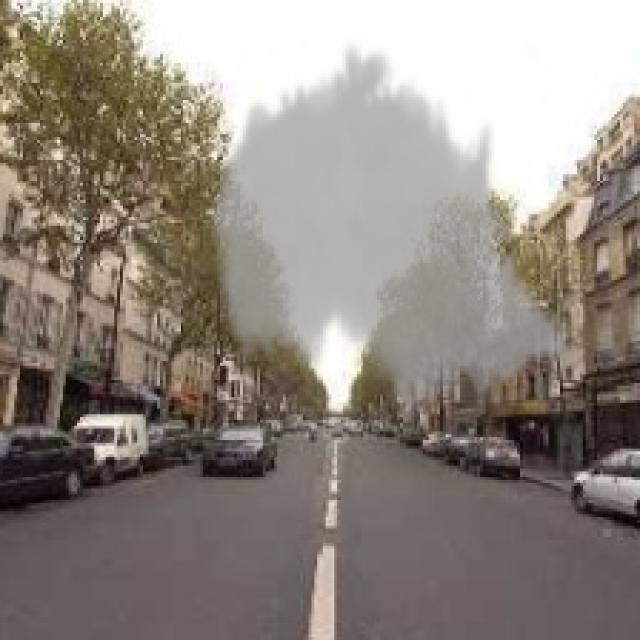Smoke: (206, 37, 574, 426)
